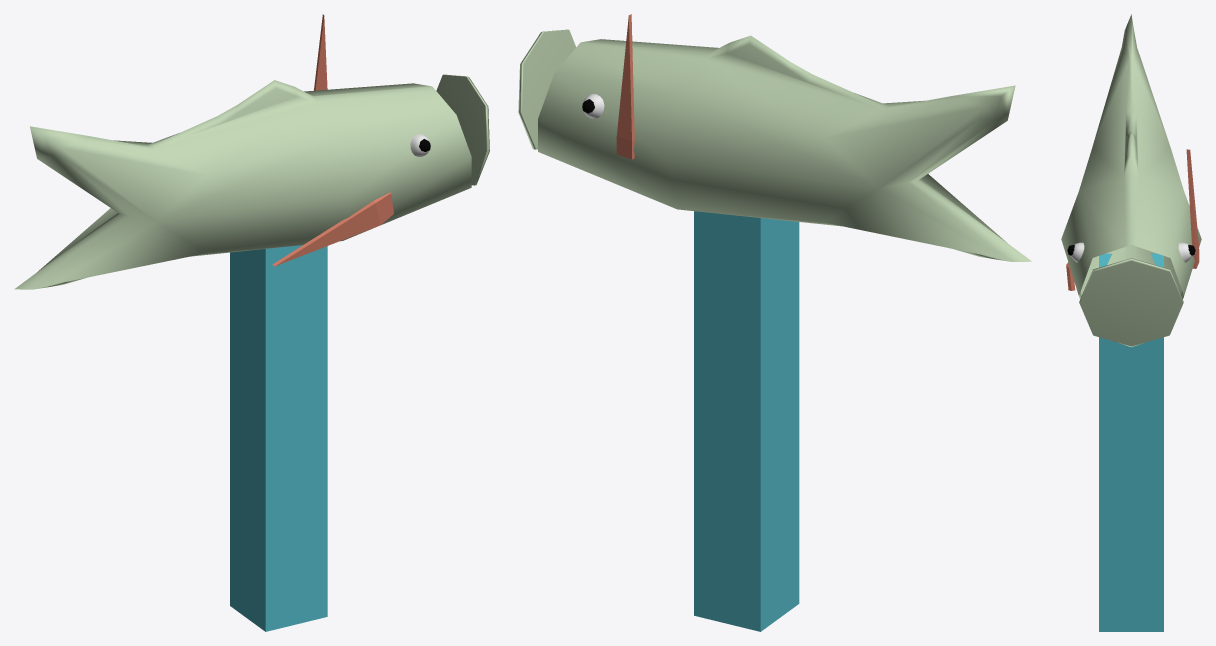
File: MailboxFish.fbx
The picture shows the model from 3 angles, left to right: view 1: azimuth 30°, elevation 25°; view 2: azimuth 150°, elevation 25°; view 3: azimuth 270°, elevation 25°; orthographic projection. The views are drawn at different scales.
Visible parts, largest first — view 1: polySurface5, polySurface2; view 2: polySurface5, polySurface2; view 3: polySurface5, polySurface2.
Part boxes in pixels (<box>): polySurface5: <box>14,14,471,631</box>; polySurface2: <box>436,74,489,185</box>; polySurface5: <box>538,14,1031,631</box>; polySurface2: <box>518,29,576,149</box>; polySurface5: <box>1061,14,1201,631</box>; polySurface2: <box>1079,258,1183,346</box>.
Size of the model in its own units: 3.44 by 4.01 by 1.02.
